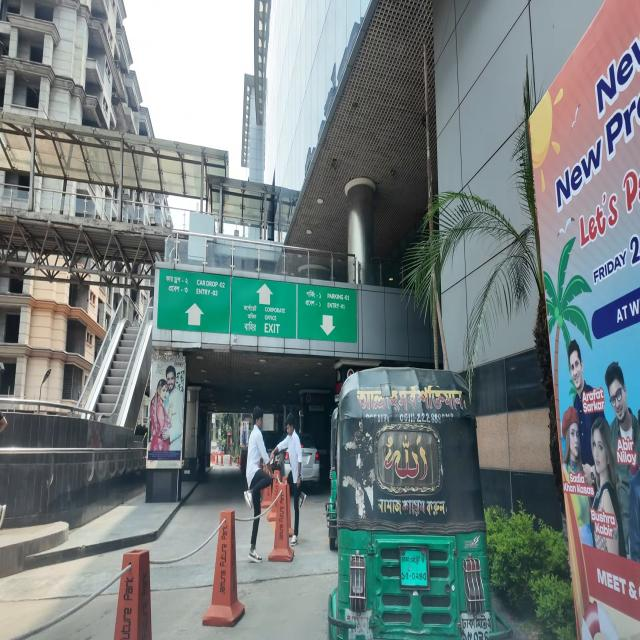person: (244, 406, 273, 564), (276, 414, 302, 544)
